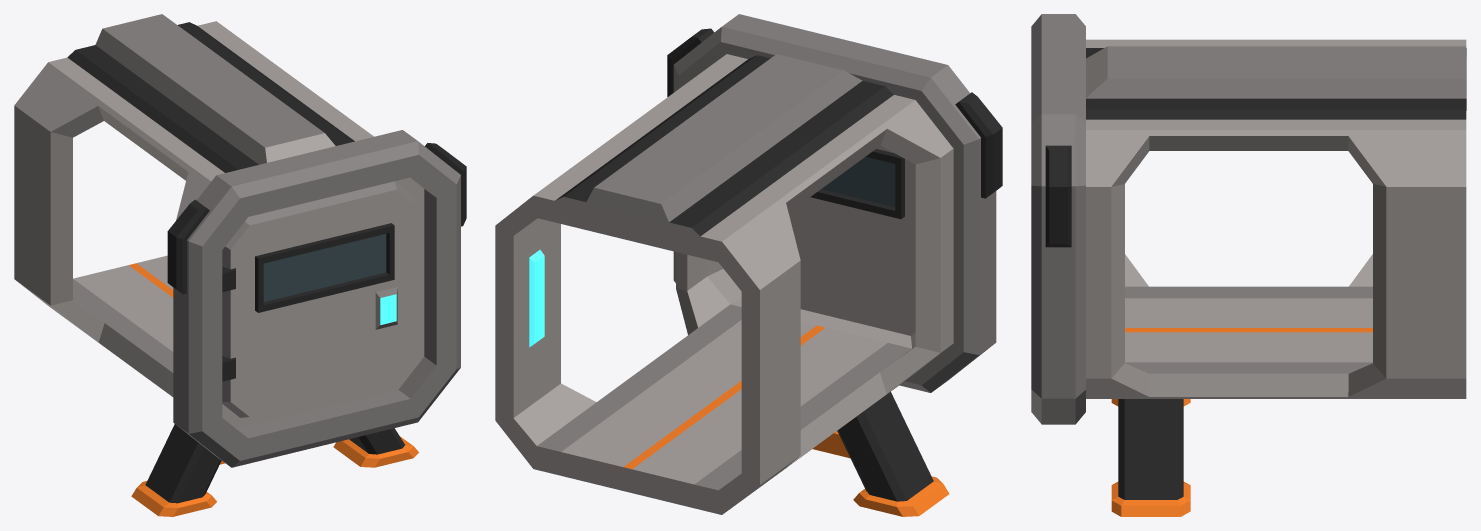
File: scifi_scifi-planet-base-hall-two-start.fbx
The picture shows the model from 3 angles, left to right: view 1: azimuth 30°, elevation 25°; view 2: azimuth 150°, elevation 25°; view 3: azimuth 270°, elevation 25°; orthographic projection. The views are drawn at different scales.
Visible parts, largest first — view 1: scifi_scifi_planet_base_hall_two_start; view 2: scifi_scifi_planet_base_hall_two_start; view 3: scifi_scifi_planet_base_hall_two_start.
Boxes of the visible parts, x1,y1,x2,y2 form: scifi_scifi_planet_base_hall_two_start: (14, 14, 466, 516); scifi_scifi_planet_base_hall_two_start: (495, 14, 1002, 516); scifi_scifi_planet_base_hall_two_start: (1031, 14, 1466, 516).
Bounding box in the file's own units: 170 × 195 × 200.
